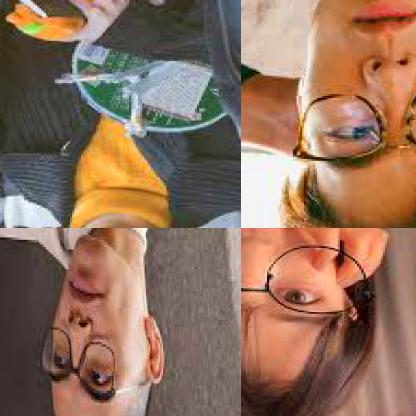glasses: (275, 77, 415, 167), (241, 240, 371, 320), (39, 327, 115, 391)
